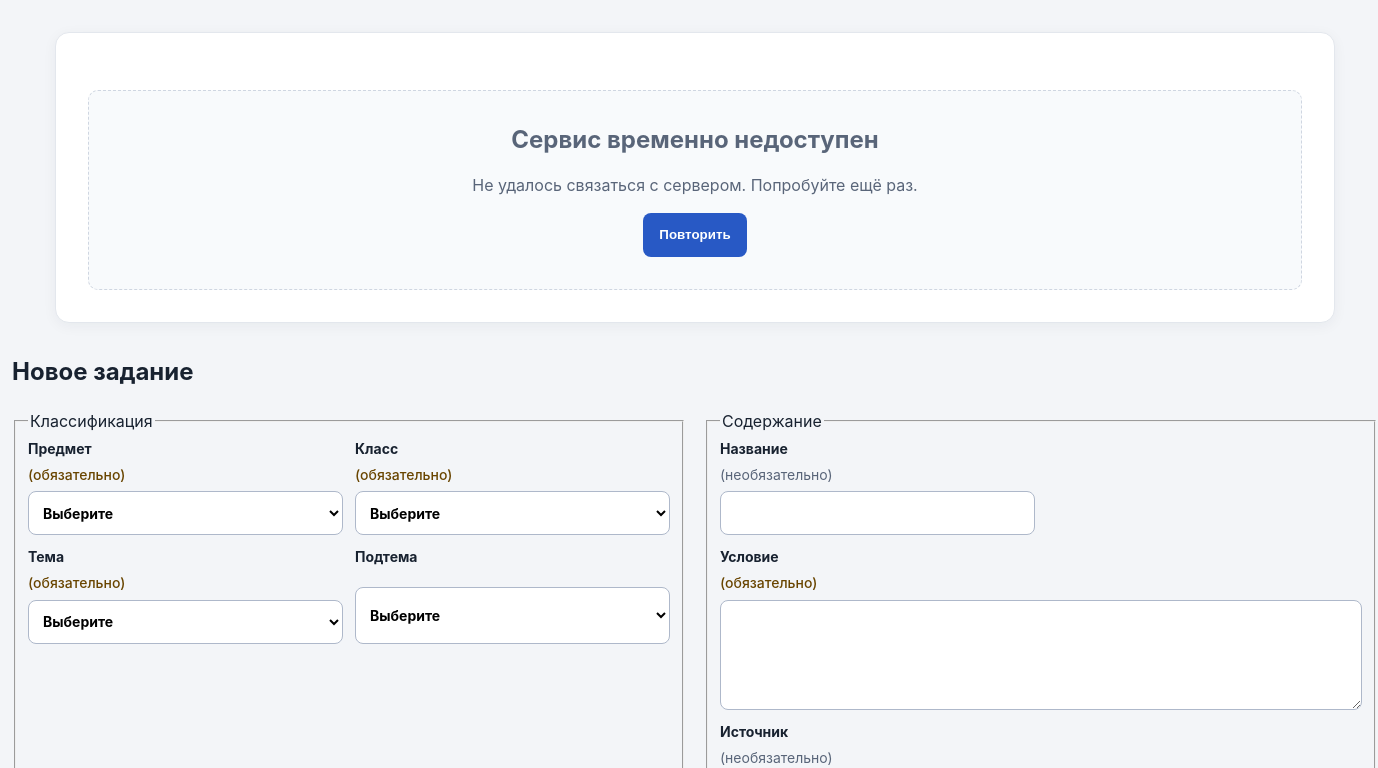
Scenario: create task tags integration › creates without tags using schema-compatible empty array
Select "Математика" in the dropdown labelled "Предмет (обязательно)" at (186, 513), box [28, 491, 343, 535]
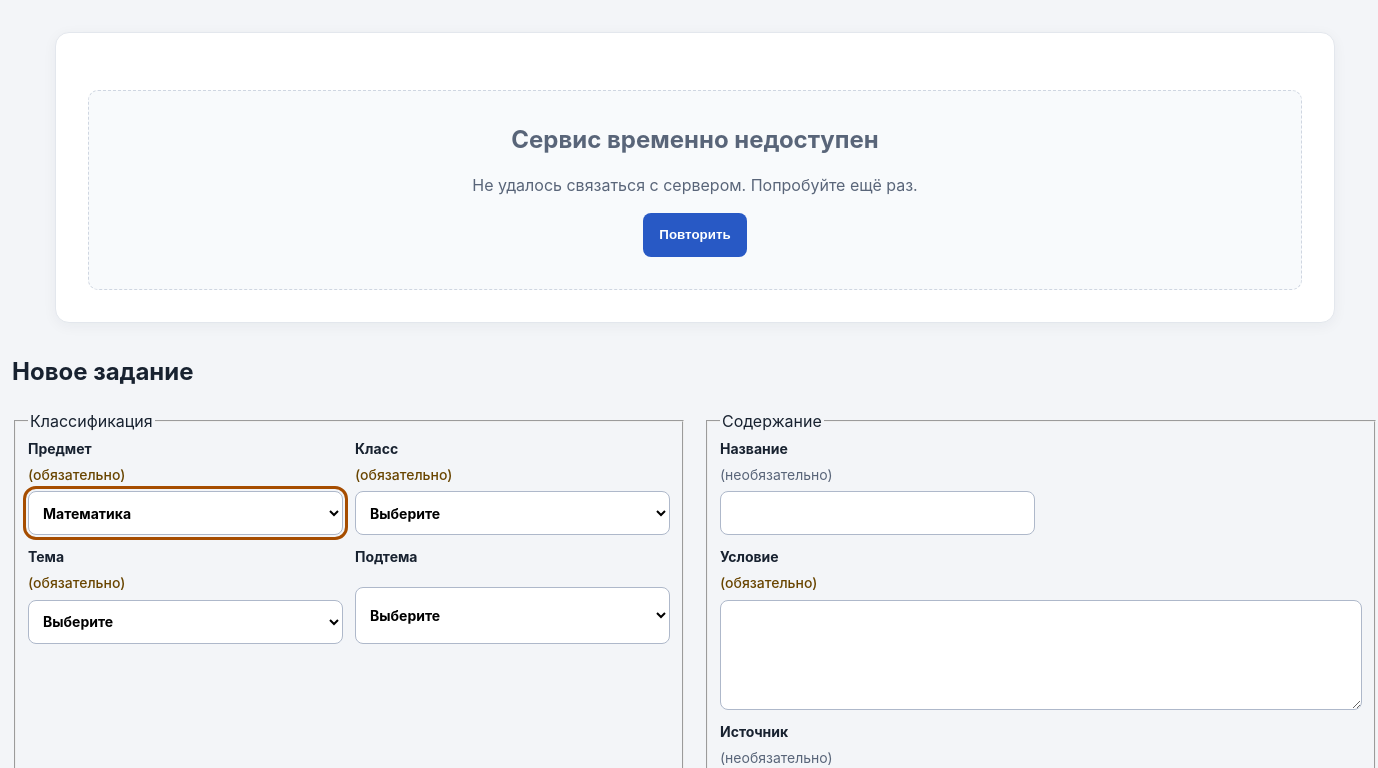
Select "7" in the dropdown labelled "Класс (обязательно)" at (512, 513), box [355, 491, 670, 535]
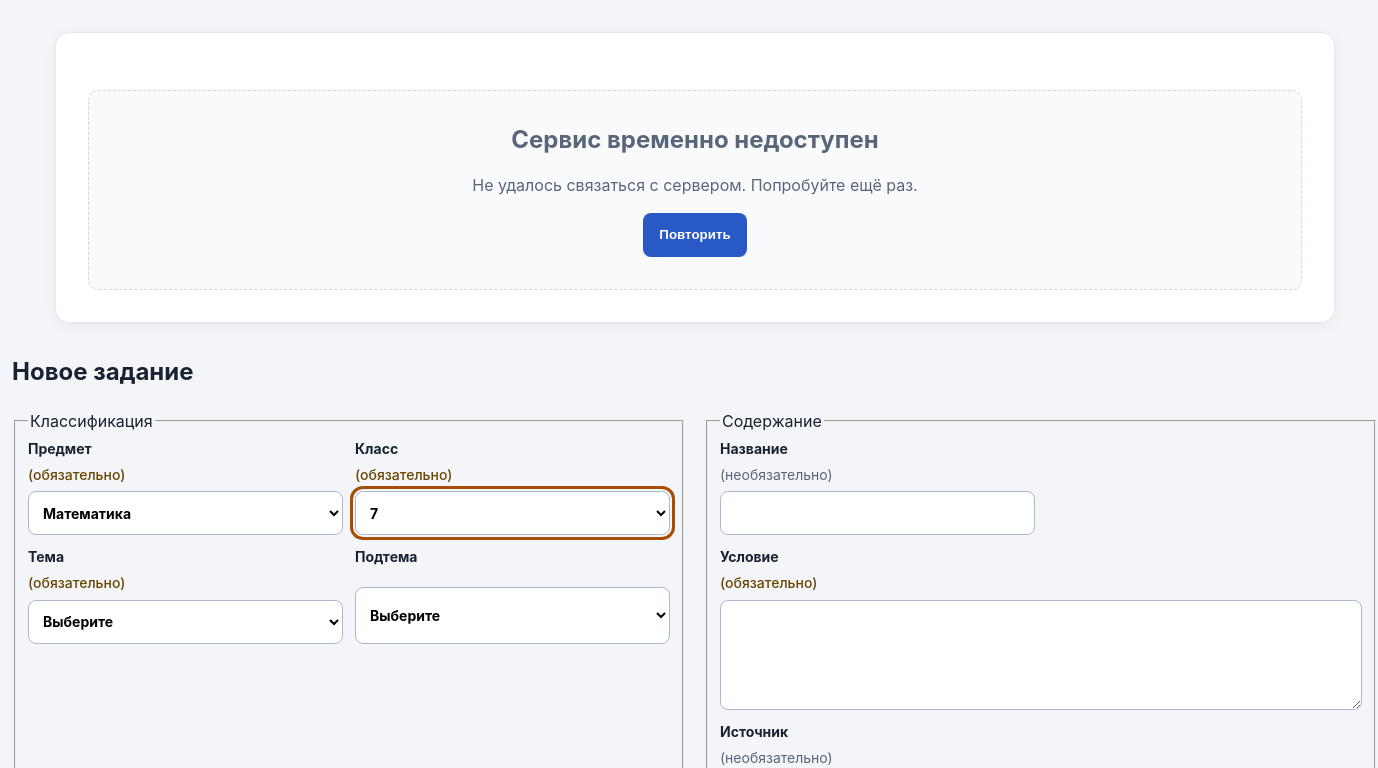
Select "Алгебра" in the dropdown labelled "Тема (обязательно)" at (186, 622), box [28, 600, 343, 644]
(page scrolled)
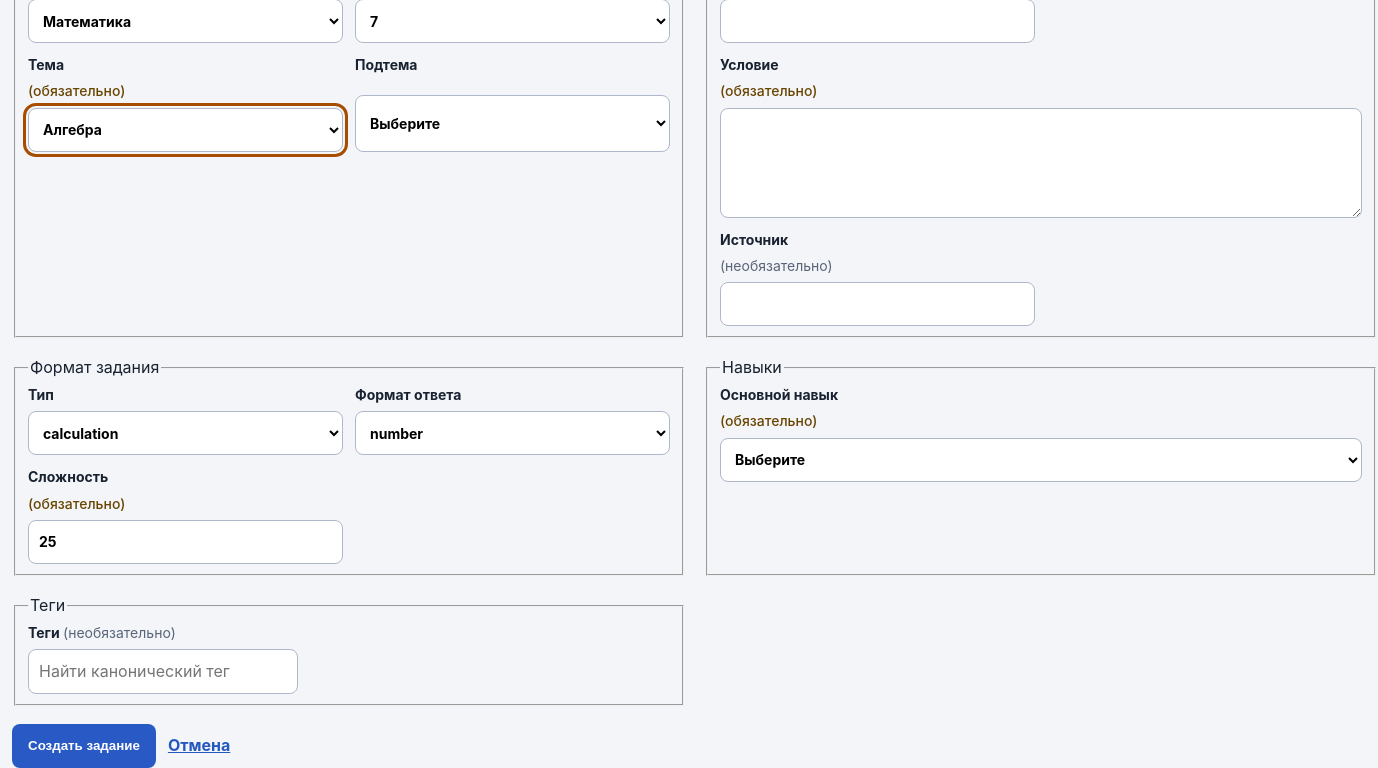
Select "Решение" in the dropdown labelled "Основной навык (обязательно)" at (1041, 460), box [720, 438, 1362, 482]
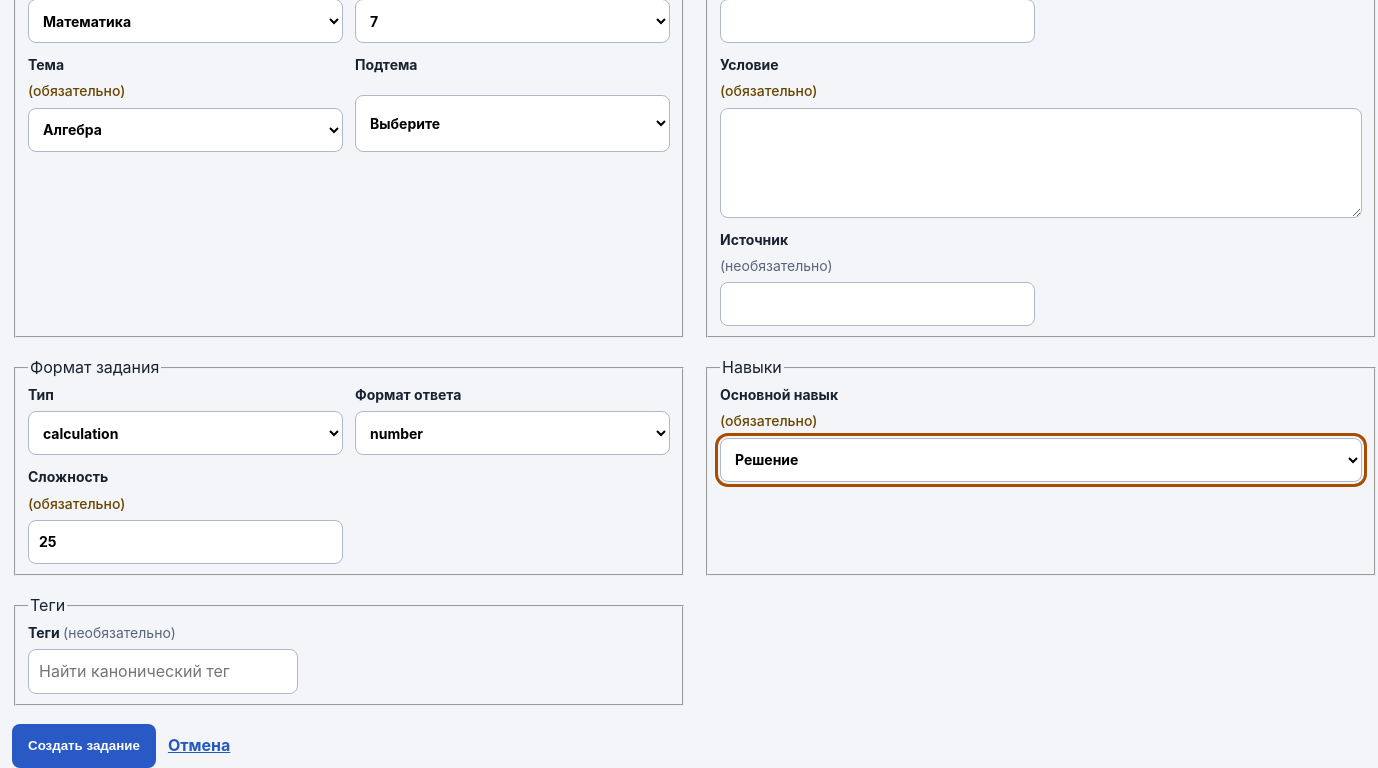
Type "Условие" into the text box labelled "Условие (обязательно)" at (1041, 163), box [720, 108, 1362, 218]
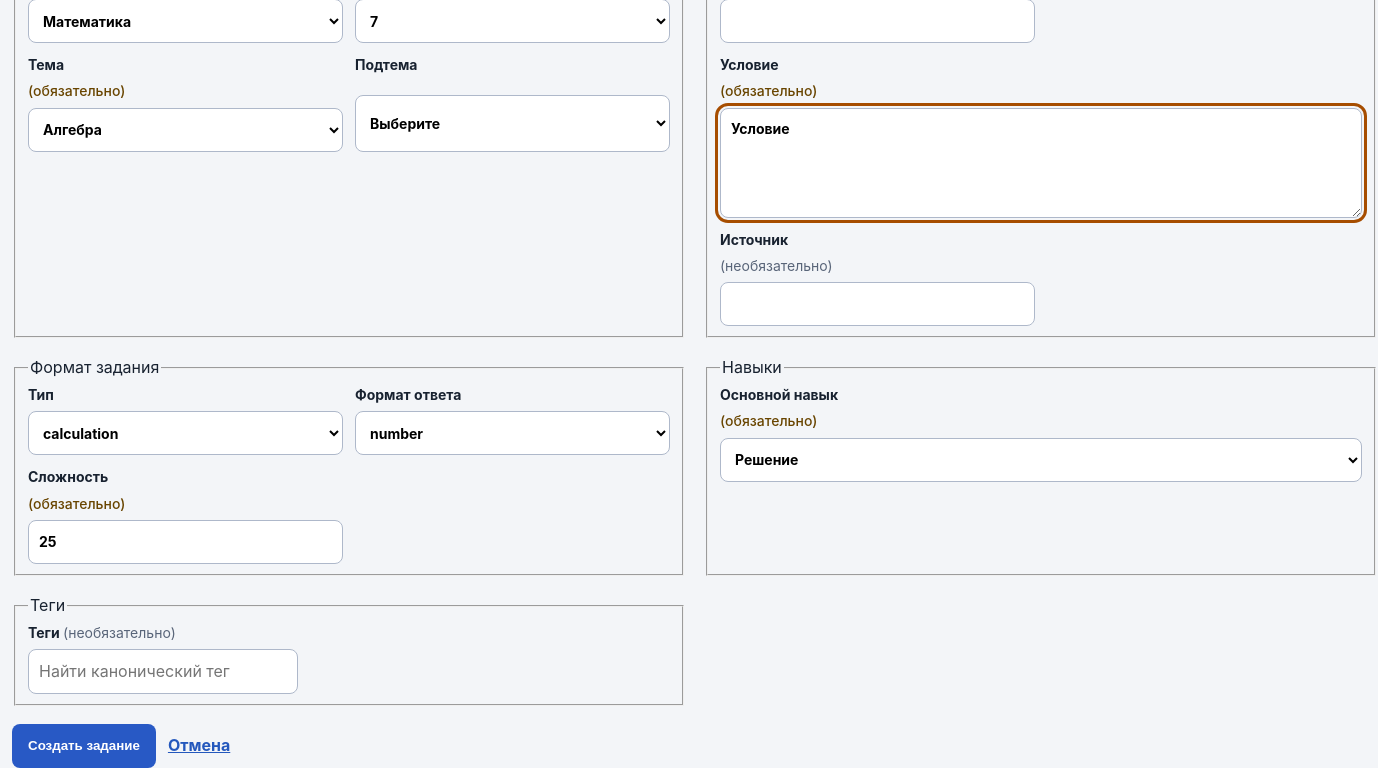
Click the button "Создать задание" at (84, 746), box [12, 724, 156, 767]
(page scrolled)
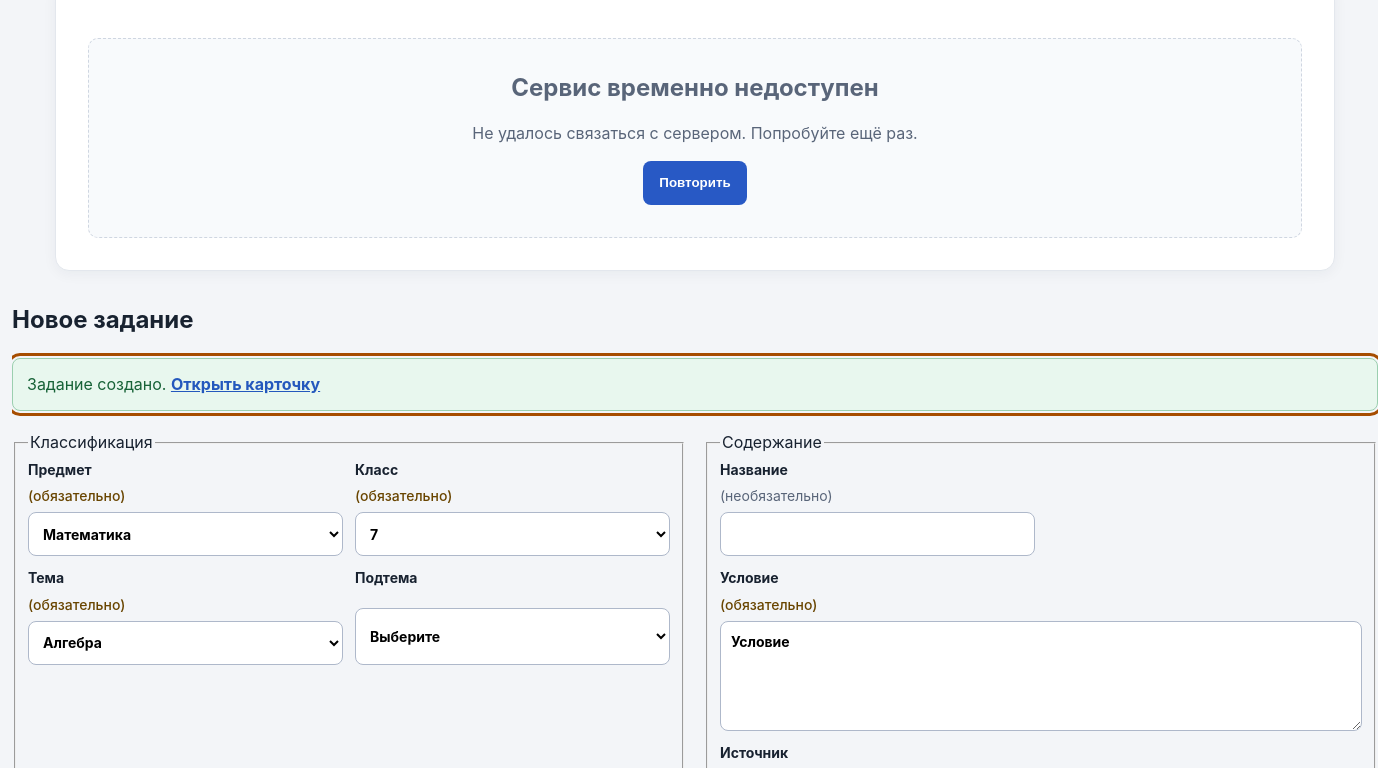
Check: the text "Задание создано." is shown, box [27, 374, 171, 394]
